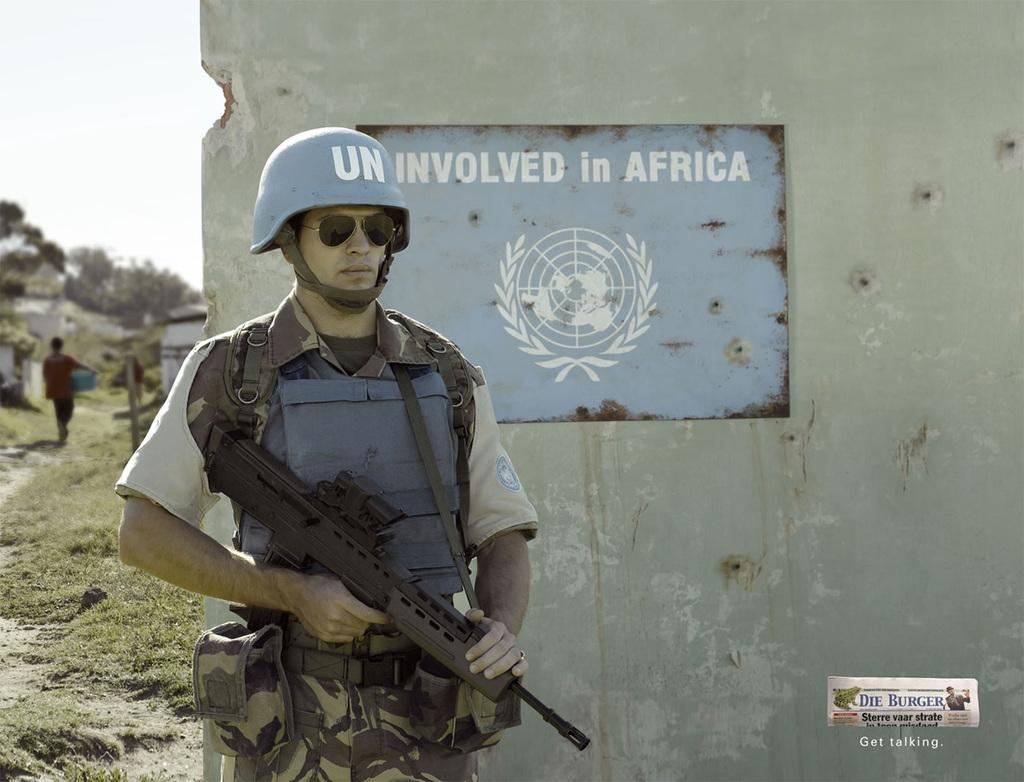Rifle: (207, 419, 590, 751)
